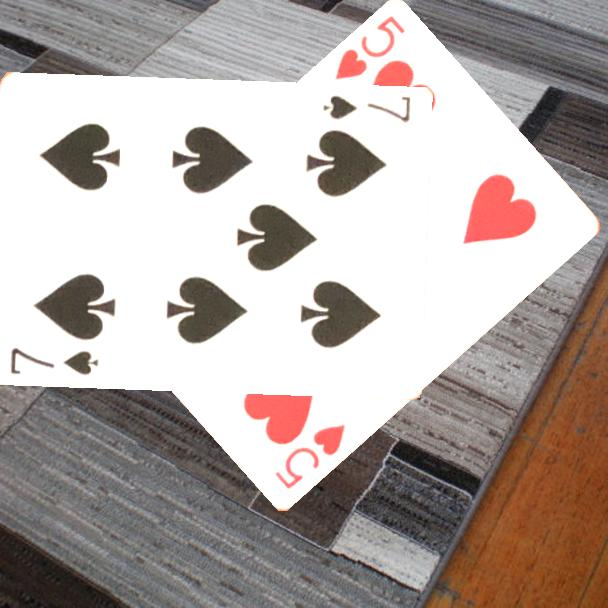h05: (271, 421, 348, 493), (331, 13, 408, 84)
s07: (320, 91, 413, 125), (7, 344, 102, 377)
